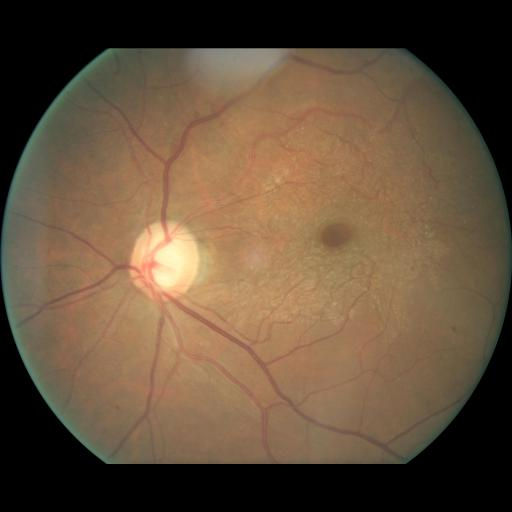Optic Cup: (146, 238, 182, 286)
Optic Disc: (129, 221, 199, 301)
